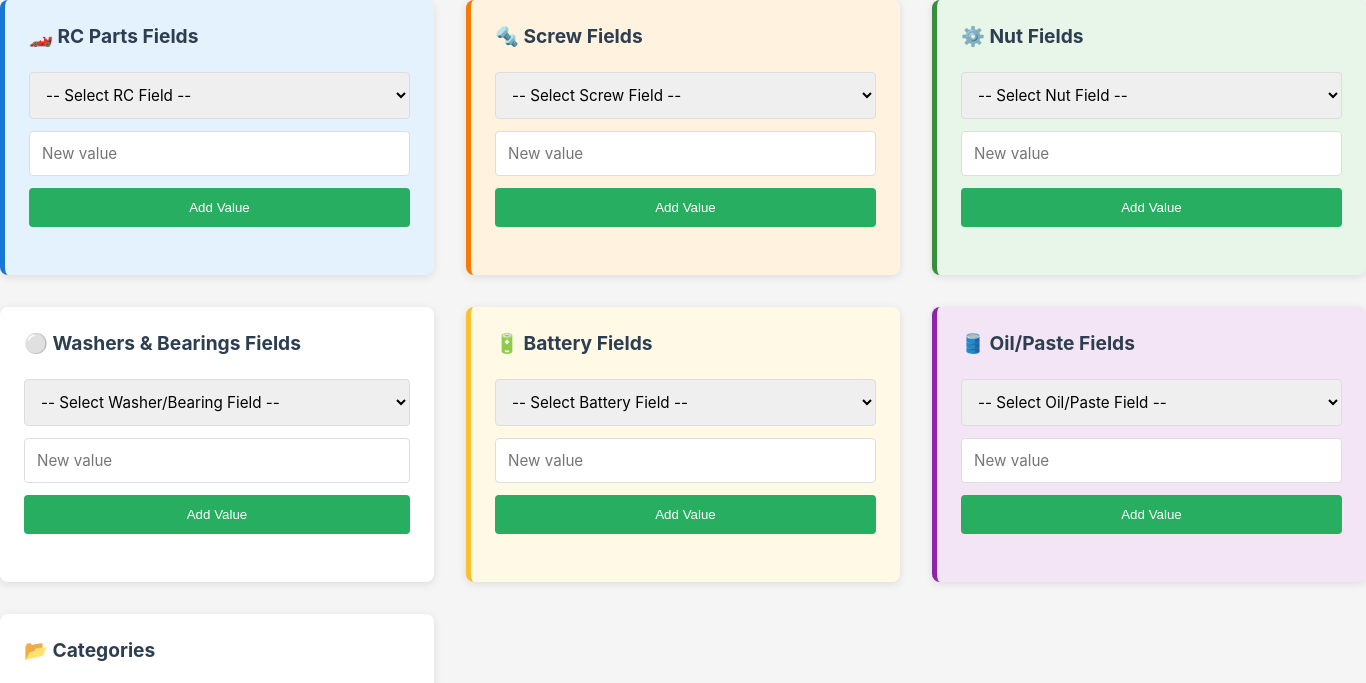
Test case: ManageView field cards › adds a trimmed value to the selected field and refreshes the list
The width and height of the screenshot is (1366, 683).
Expected: the button "Add Value" below "⚙️ Nut Fields" is disabled, [961, 188, 1342, 227]
Step 1. Select "Size" in the dropdown named "Nut field" → (1152, 96), box [961, 72, 1342, 119]
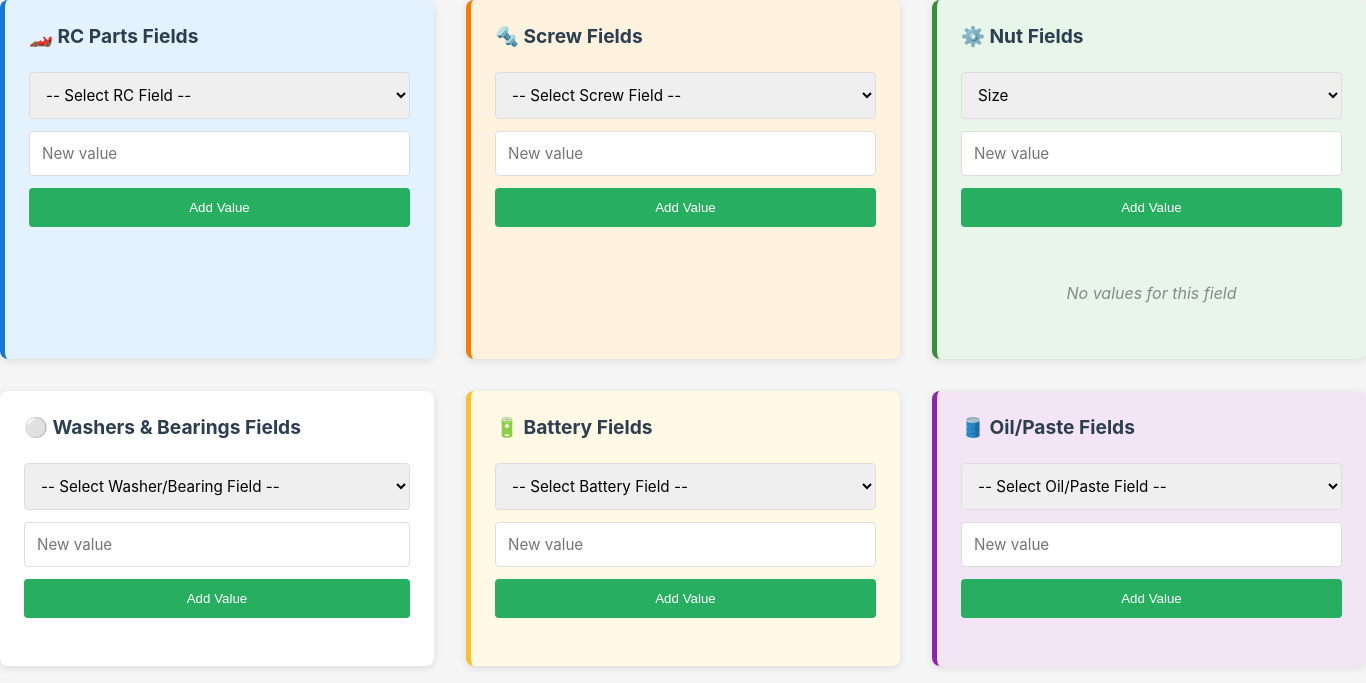
Step 2. Type "  M5  " into the field with placeholder "New value" below "⚙️ Nut Fields" → (1152, 154), box [961, 131, 1342, 176]
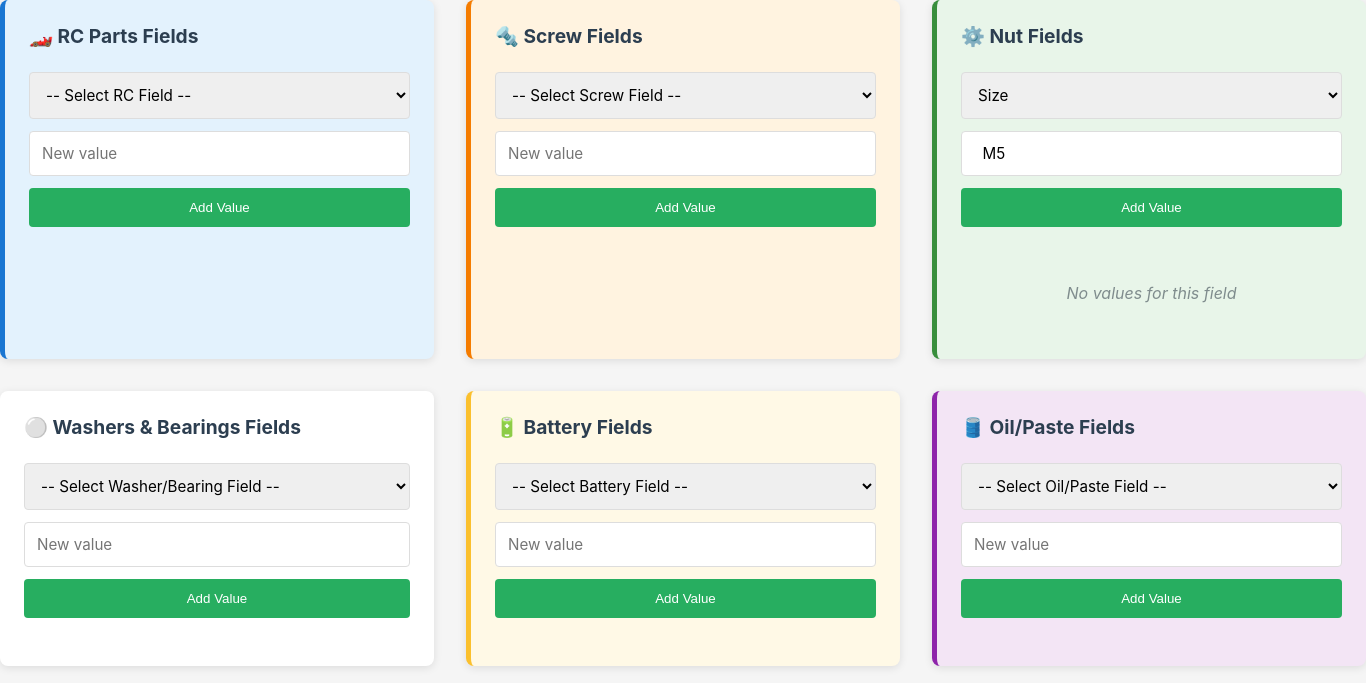
Step 3. Click the button "Add Value" below "⚙️ Nut Fields" → click(1152, 208), box [961, 188, 1342, 227]
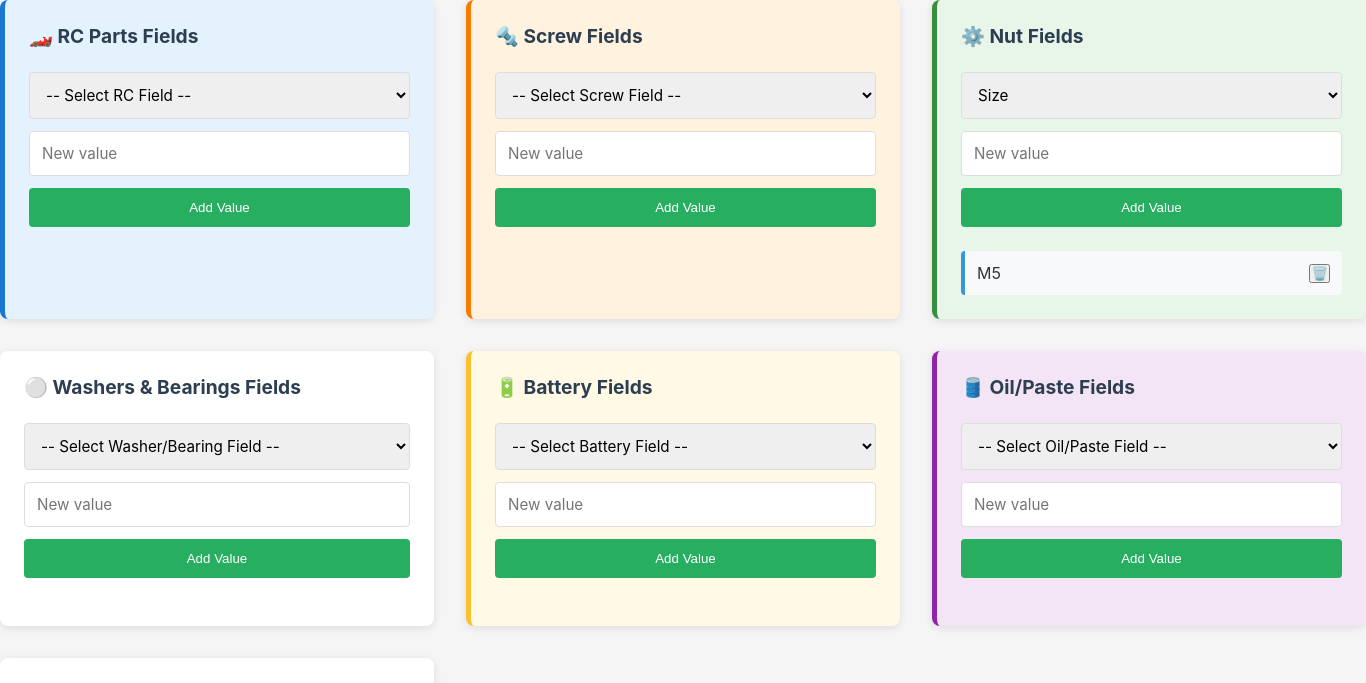
Expected: the field with placeholder "New value" below "⚙️ Nut Fields" is empty, [961, 131, 1342, 176]
Expected: the element with class "manage-section" shows "M5", [977, 263, 1001, 283]
